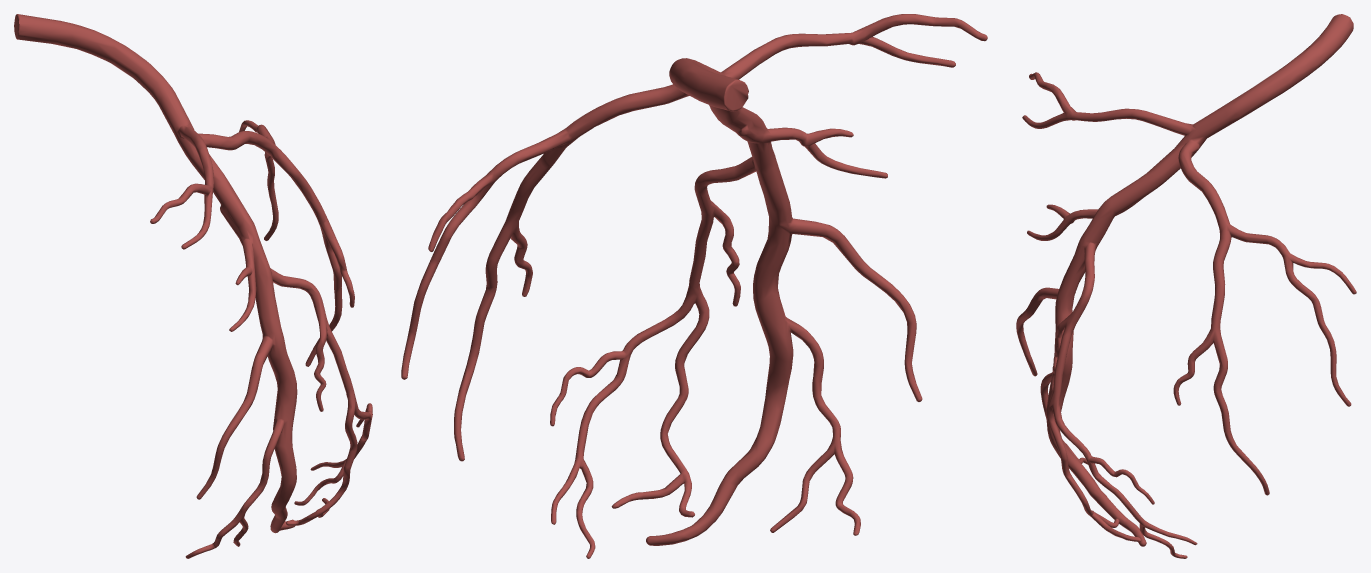
The model's file is FMA3862nsn.glb.
3 views of the same model, side by side, from view 1: azimuth 30°, elevation 25°; view 2: azimuth 150°, elevation 25°; view 3: azimuth 270°, elevation 25° (orthographic). The views are drawn at different scales.
Parts seen in each view (by area): view 1: FMA3862nsn; view 2: FMA3862nsn; view 3: FMA3862nsn.
Part boxes in pixels (x1,y1,x2,y2): FMA3862nsn: [14, 14, 372, 558]; FMA3862nsn: [401, 14, 987, 558]; FMA3862nsn: [1016, 14, 1356, 558].
Bounding box in the file's own units: 0.0506 × 0.0782 × 0.0531.
